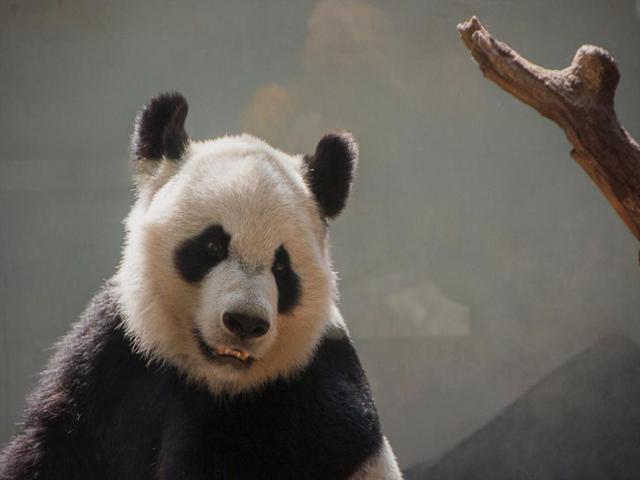panda: (14, 37, 452, 475)
